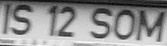0: (114, 8, 137, 40)
1: (44, 3, 58, 35)
2: (58, 5, 77, 40)
I: (1, 2, 13, 37)
M: (138, 7, 165, 42)
S: (88, 4, 113, 41), (13, 2, 32, 36)
